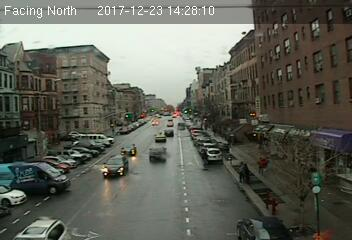car: (99, 154, 130, 178), (148, 145, 168, 162), (204, 147, 224, 162), (120, 143, 137, 155), (154, 132, 167, 141)
pedestrian: (237, 160, 251, 183)
